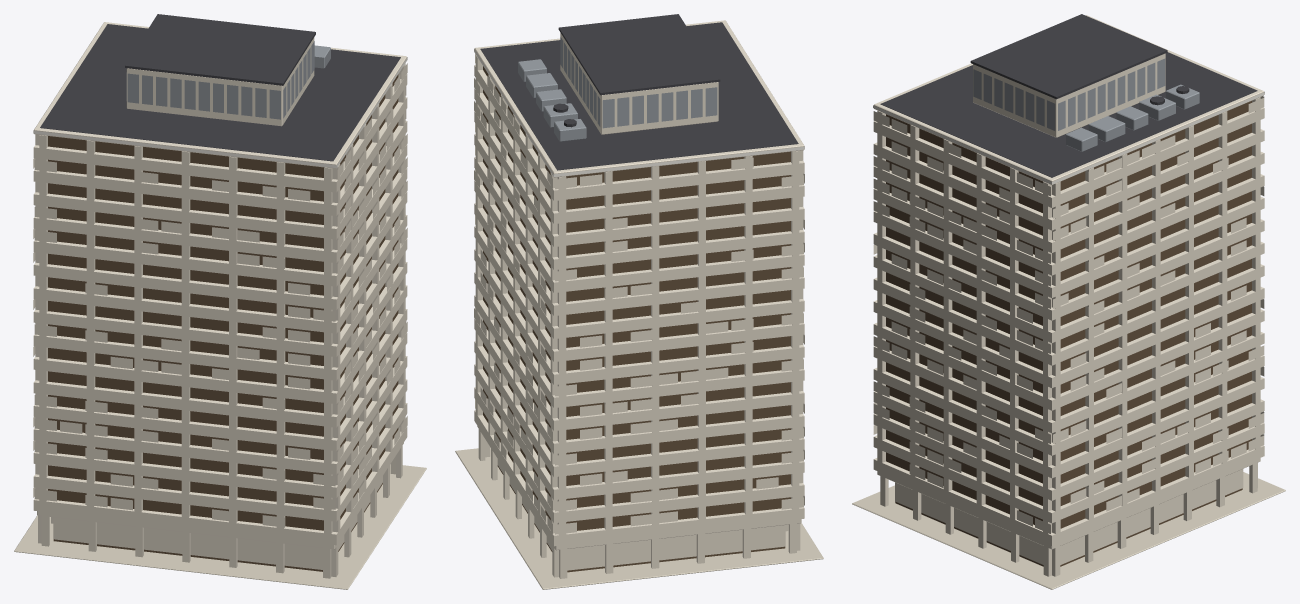
Rendered from 211-main-street.glb.
3 renders of one model, left to right at view 1: azimuth 30°, elevation 25°; view 2: azimuth 150°, elevation 25°; view 3: azimuth 270°, elevation 25°, orthographic. The views are drawn at different scales.
Parts seen in each view (by area): view 1: 211-main-street_body, 211-main-street_night_glow; view 2: 211-main-street_body, 211-main-street_night_glow; view 3: 211-main-street_body, 211-main-street_night_glow.
Part boxes in pixels (x1,y1,x2,y2): 211-main-street_body: [14, 14, 426, 589]; 211-main-street_night_glow: [33, 57, 407, 569]; 211-main-street_body: [455, 14, 823, 589]; 211-main-street_night_glow: [474, 48, 804, 570]; 211-main-street_body: [852, 14, 1285, 589]; 211-main-street_night_glow: [873, 91, 1264, 564].
Size of the model in its own units: 73.28 by 82 by 72.88.
